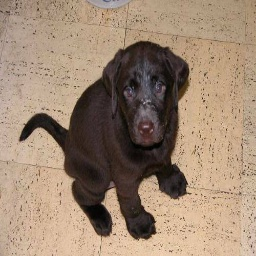dog: (21, 42, 192, 236)
